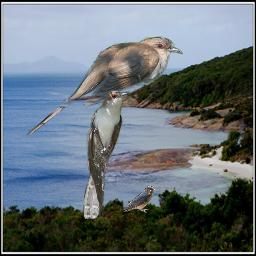Cuckoo: (27, 36, 183, 137), (82, 89, 131, 219)
Swallow: (122, 186, 155, 213)
